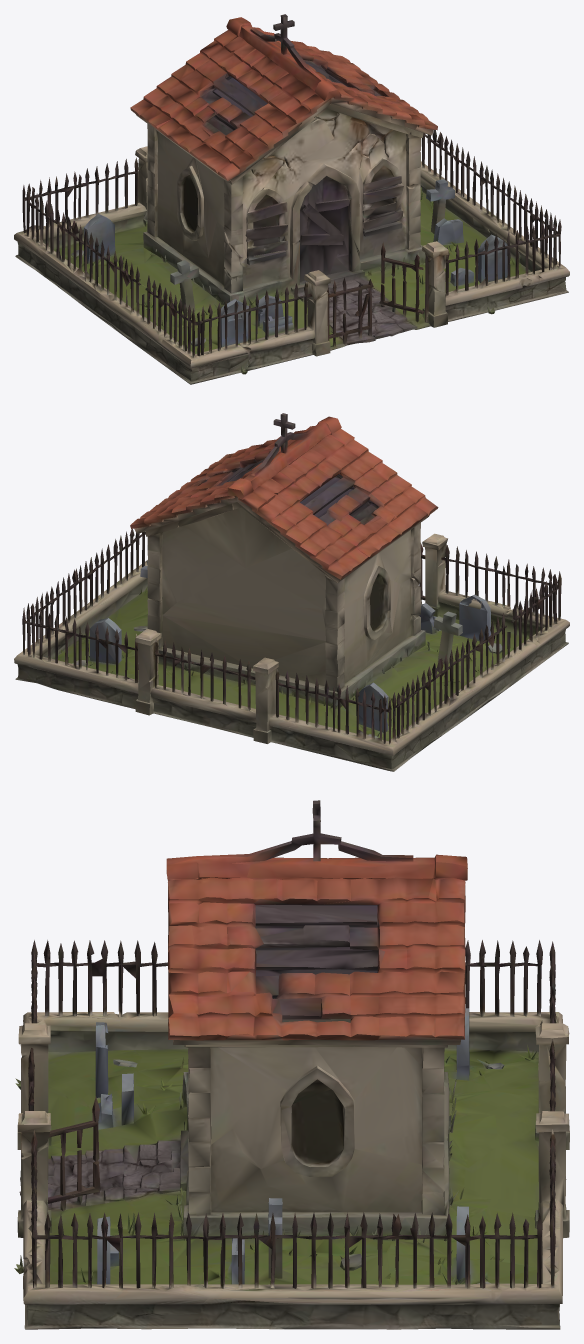
The model's file is church_idle.glb.
3 renders of one model, top to bottom at view 1: azimuth 30°, elevation 25°; view 2: azimuth 150°, elevation 25°; view 3: azimuth 270°, elevation 25°, orthographic. The views are drawn at different scales.
Visible parts, largest first — view 1: tripo_node_81ee69e4-abc5-4a30-ba4d-8444a07c8596; view 2: tripo_node_81ee69e4-abc5-4a30-ba4d-8444a07c8596; view 3: tripo_node_81ee69e4-abc5-4a30-ba4d-8444a07c8596.
Boxes of the visible parts, box(x1,y1,x2,y2) form: tripo_node_81ee69e4-abc5-4a30-ba4d-8444a07c8596: box(14, 14, 569, 384); tripo_node_81ee69e4-abc5-4a30-ba4d-8444a07c8596: box(14, 413, 569, 771); tripo_node_81ee69e4-abc5-4a30-ba4d-8444a07c8596: box(14, 800, 569, 1329).
Bounding box in the file's own units: 10 × 6.42 × 8.31.
1 material, 1 textured.
